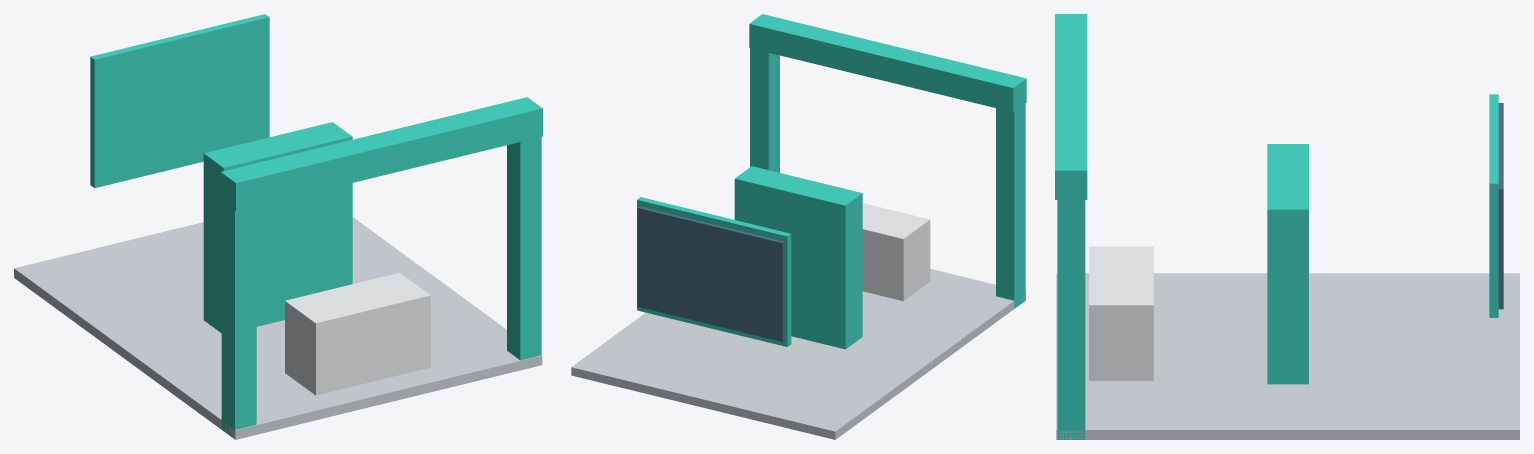
The picture shows the model from 3 angles, left to right: view 1: azimuth 30°, elevation 25°; view 2: azimuth 150°, elevation 25°; view 3: azimuth 270°, elevation 25°; orthographic projection. The views are drawn at different scales.
Visible parts, largest first — view 1: Exhibition Booth Concept; view 2: Exhibition Booth Concept; view 3: Exhibition Booth Concept.
Part boxes in pixels (x1,y1,x2,y2): Exhibition Booth Concept: (14,14,542,439); Exhibition Booth Concept: (571,14,1026,439); Exhibition Booth Concept: (1055,14,1519,439).
Bounding box in the file's own units: 4 × 3.2 × 5.02.
